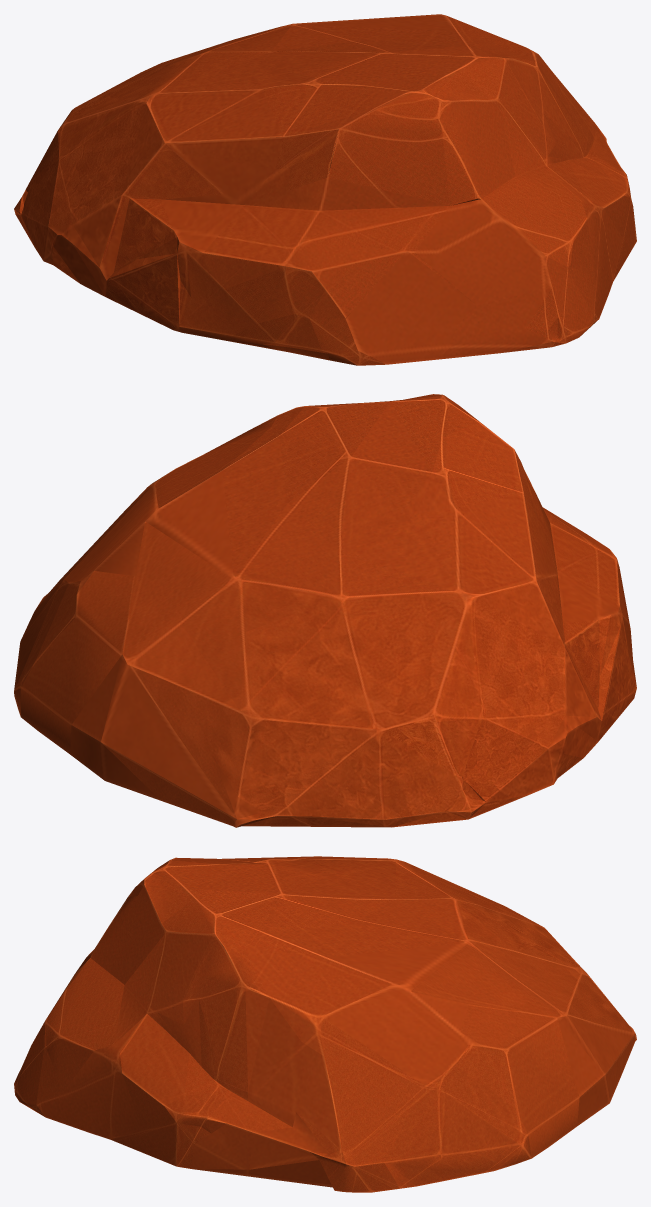
Rendered from desert_small_1.glb.
3 views of the same model, one above another, from view 1: azimuth 30°, elevation 25°; view 2: azimuth 150°, elevation 25°; view 3: azimuth 270°, elevation 25° (orthographic). The views are drawn at different scales.
Visible parts, largest first — view 1: output_unwrapped; view 2: output_unwrapped; view 3: output_unwrapped.
Part boxes in pixels (<box>): output_unwrapped: <box>14,14,636,365</box>; output_unwrapped: <box>14,394,636,827</box>; output_unwrapped: <box>14,856,636,1192</box>.
Size of the model in its own units: 1.72 by 0.6621 by 1.9.
Materials: 1 (1 with a texture image).
